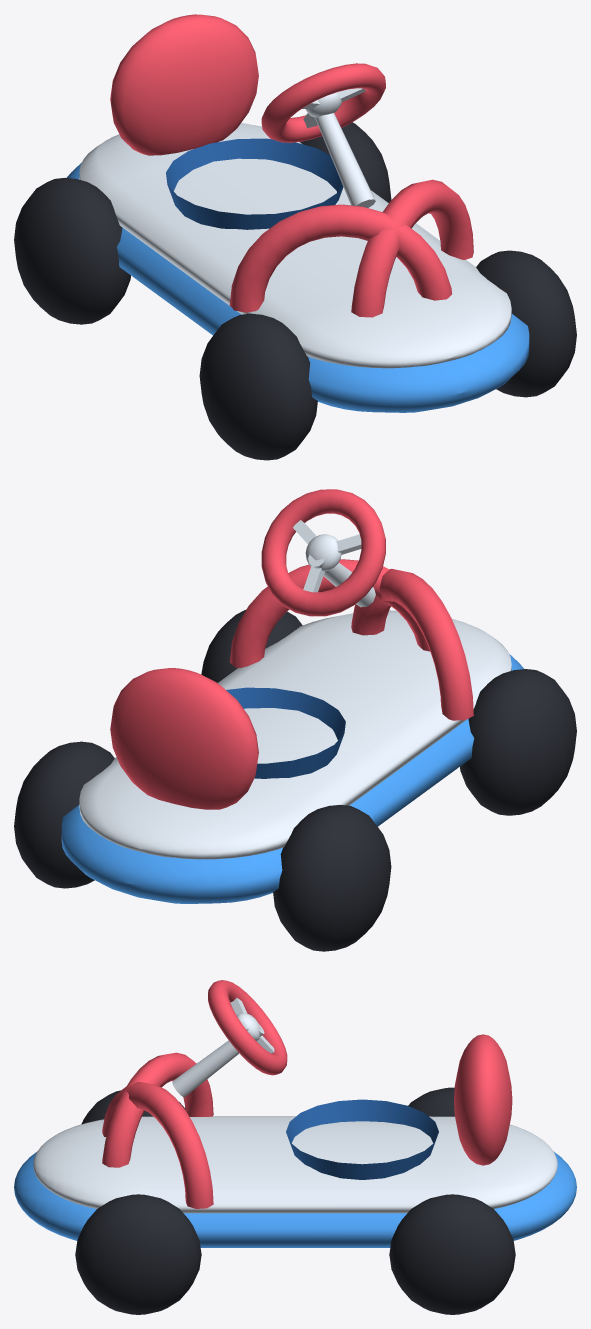
File: kart-slipper.glb
3 renders of one model, top to bottom at view 1: azimuth 30°, elevation 25°; view 2: azimuth 150°, elevation 25°; view 3: azimuth 270°, elevation 25°, orthographic. The views are drawn at different scales.
Visible parts, largest first — view 1: kart-slipper; view 2: kart-slipper; view 3: kart-slipper.
Boxes of the visible parts, box(x1,y1,x2,y2) form: kart-slipper: box(14, 14, 576, 460); kart-slipper: box(14, 489, 576, 951); kart-slipper: box(14, 980, 576, 1314).
Bounding box in the file's own units: 1.8 × 1.57 × 2.94.
